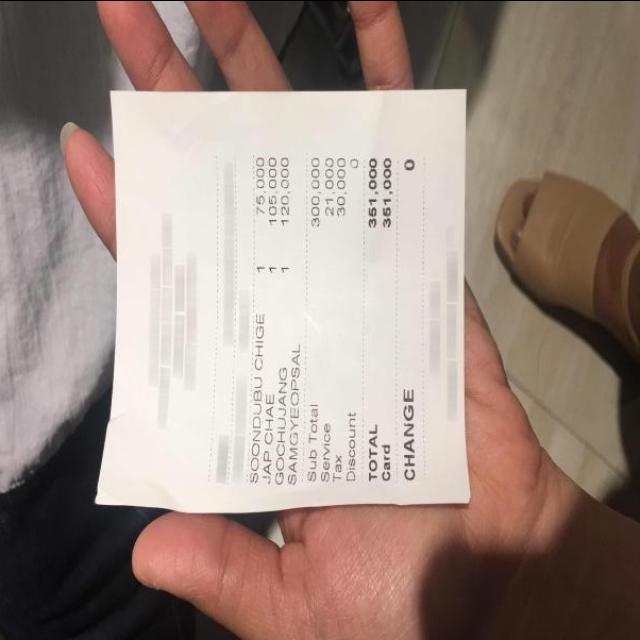kertas: (94, 89, 469, 513)
